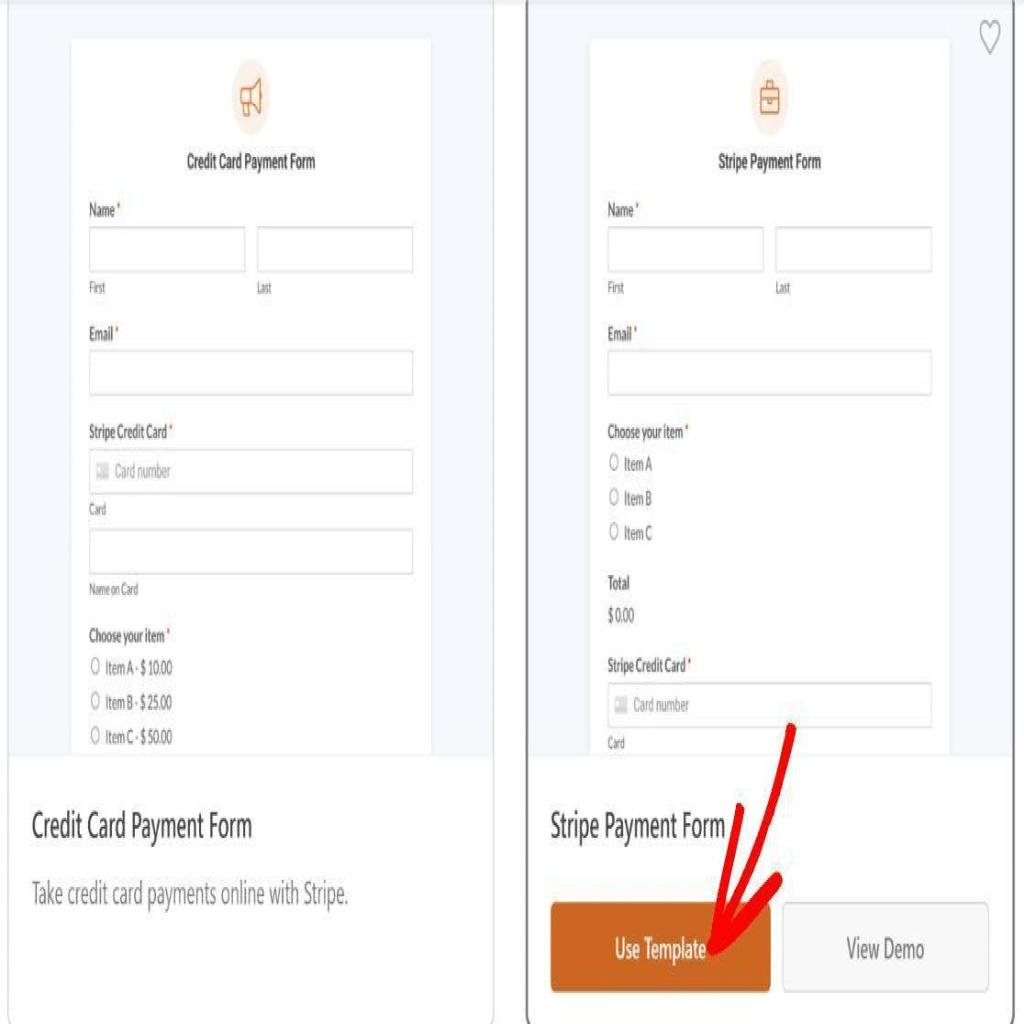button: (550, 898, 770, 991), (784, 903, 990, 993)
icon: (977, 11, 1003, 58)
input: (89, 347, 413, 398), (91, 527, 414, 577), (608, 683, 933, 732), (89, 447, 411, 493), (608, 351, 932, 396), (257, 226, 411, 280), (90, 226, 245, 272), (776, 226, 932, 270), (610, 226, 764, 268)
label: (30, 874, 352, 911), (32, 805, 253, 845), (550, 807, 728, 847), (183, 148, 320, 173), (720, 150, 822, 172), (87, 418, 171, 444), (608, 420, 689, 445), (90, 626, 172, 646), (103, 692, 172, 715), (606, 657, 692, 675), (104, 659, 172, 679), (104, 728, 172, 747), (87, 199, 120, 223), (606, 197, 638, 221), (606, 322, 638, 342), (89, 323, 118, 345), (623, 452, 654, 472), (623, 489, 653, 508), (624, 524, 655, 542), (608, 573, 632, 592)
radio: (89, 686, 101, 712), (89, 723, 101, 748), (608, 486, 620, 508), (608, 518, 620, 540), (90, 654, 101, 676), (610, 452, 620, 472)
